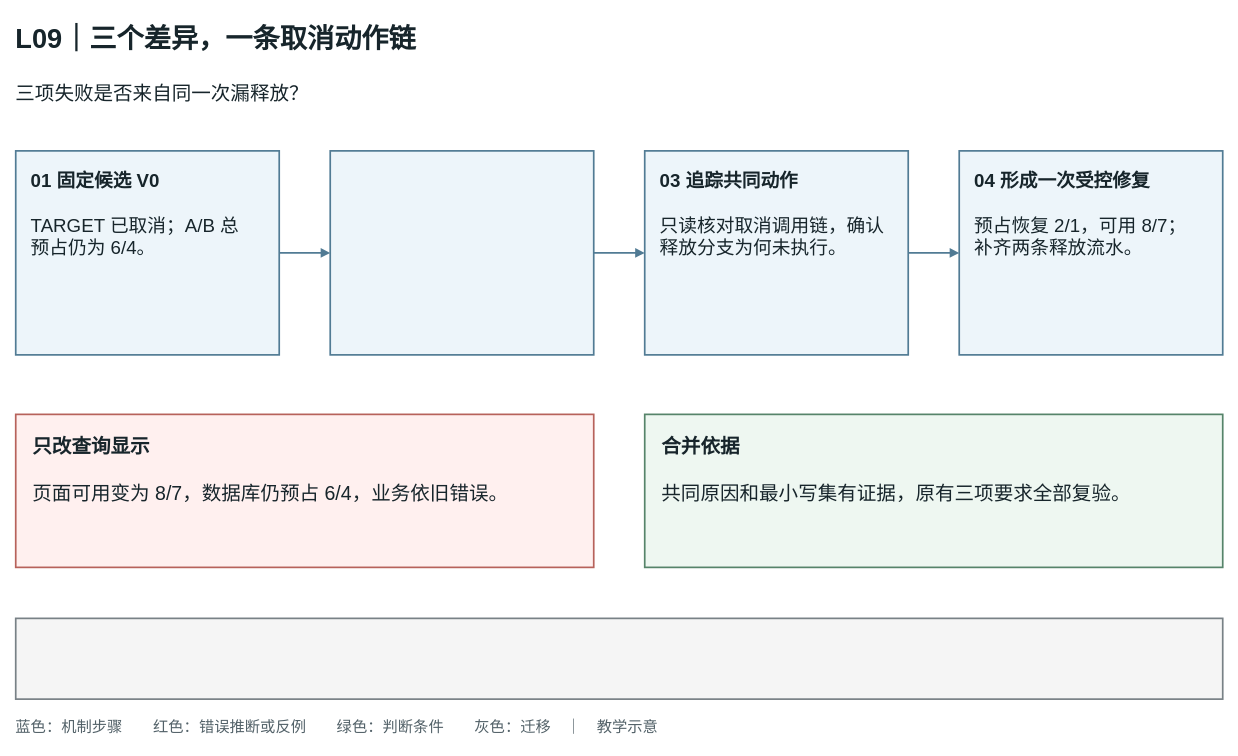
Image size: 1238x756. Some labels were removed from this diagram. Each missing label, with the centre of its shape:
02 保留三个差异 预占 6/4、可用 4/4、 TARGET 释放流水缺失。: pixel 461 252
迁移到采购理由 查询与导出都为空，先查保存，再判断共同或不同原因。: pixel 618 658
